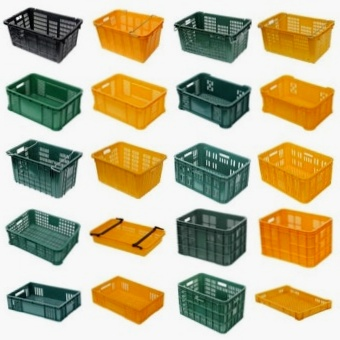plastic: (3, 6, 84, 64)
